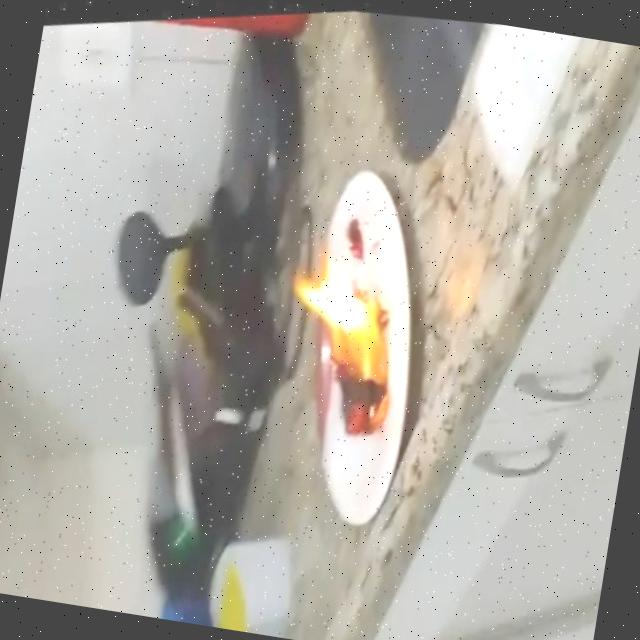fire: (258, 213, 431, 455)
